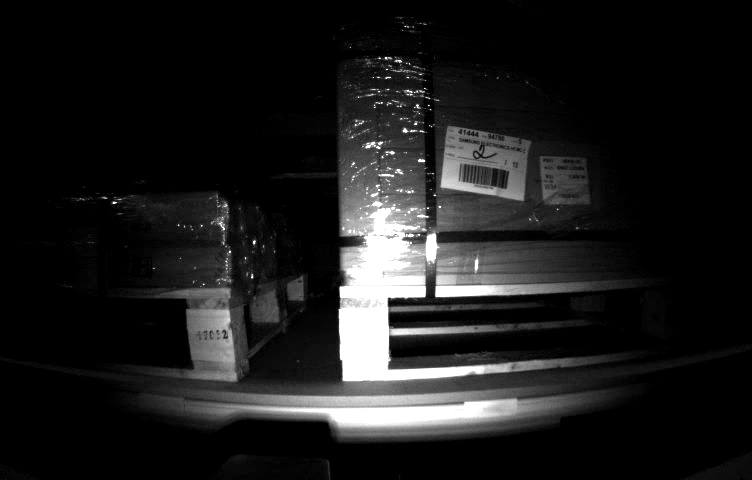True Barcode: (533, 156, 595, 207)
